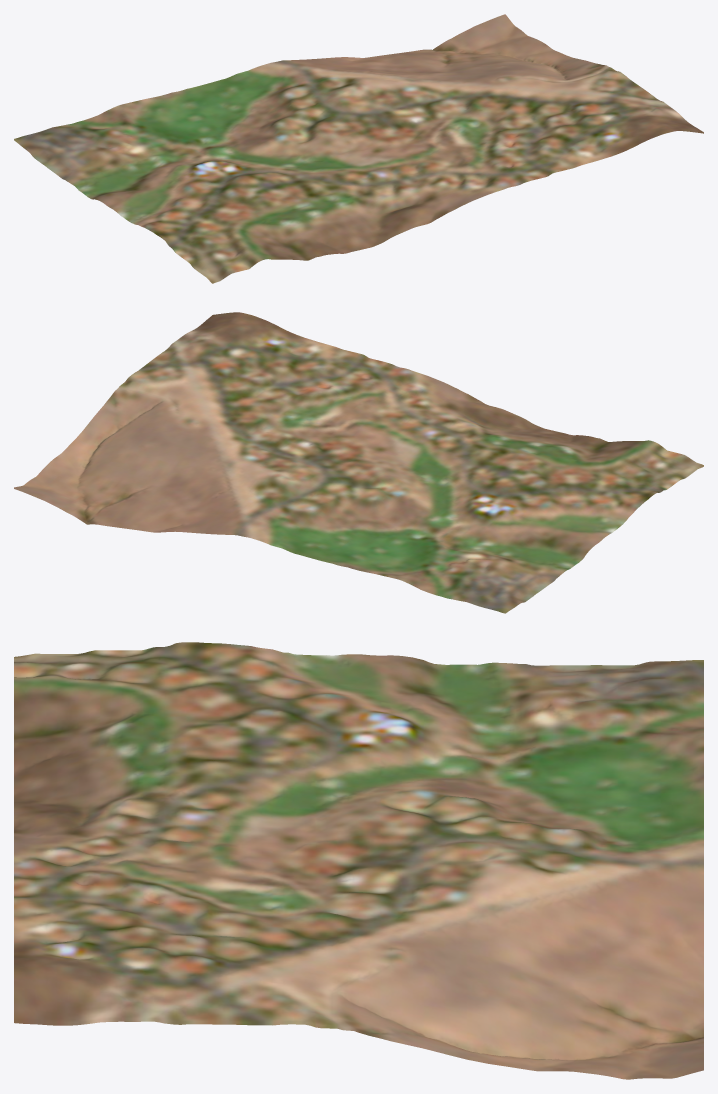
The model's file is terrain_r7_c2.glb.
The picture shows the model from 3 angles, top to bottom: view 1: azimuth 30°, elevation 25°; view 2: azimuth 150°, elevation 25°; view 3: azimuth 270°, elevation 25°; orthographic projection. The views are drawn at different scales.
Parts seen in each view (by area): view 1: terrain_r7_c2_lod0; view 2: terrain_r7_c2_lod0; view 3: terrain_r7_c2_lod0.
Boxes of the visible parts, x1=… form: terrain_r7_c2_lod0: x1=14, y1=14, x2=703, y2=283; terrain_r7_c2_lod0: x1=14, y1=312, x2=703, y2=613; terrain_r7_c2_lod0: x1=14, y1=642, x2=703, y2=1079.
Size of the model in its own units: 1125 by 123 by 787.
Materials: 1 (1 with a texture image).
